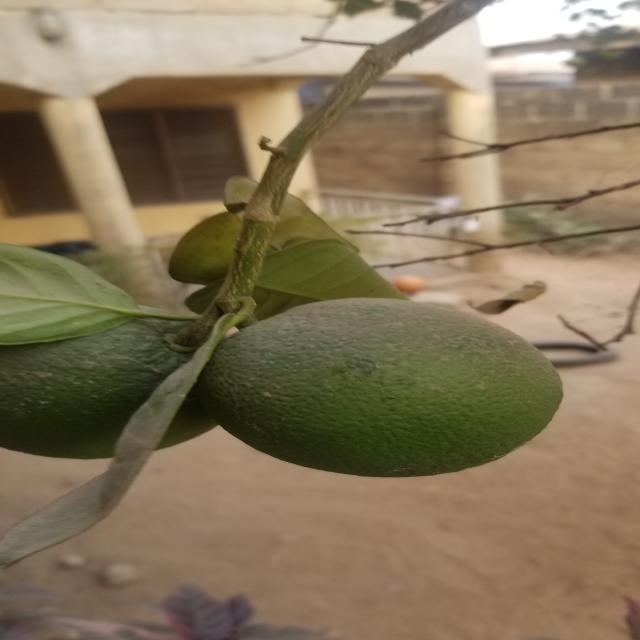Unripe: (209, 297, 568, 482), (3, 305, 215, 462)
